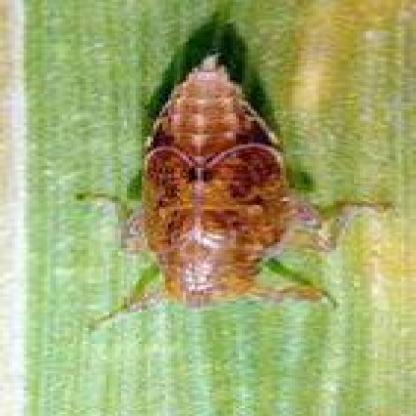brown-planthopper: (110, 51, 306, 308)
